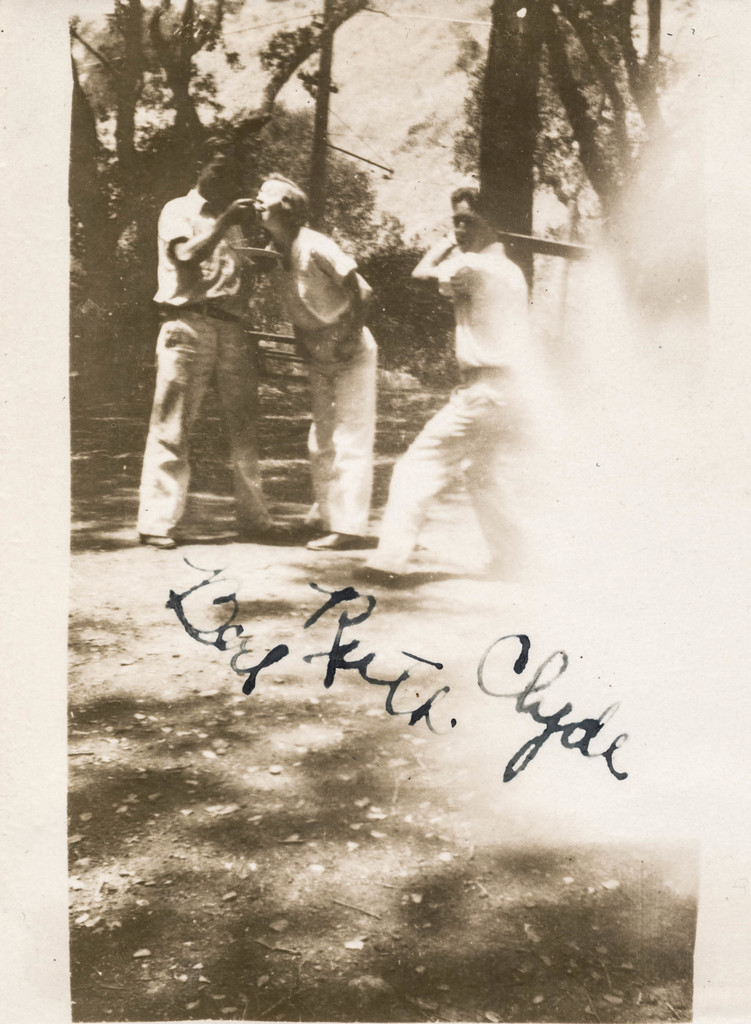person: (353, 182, 569, 593)
